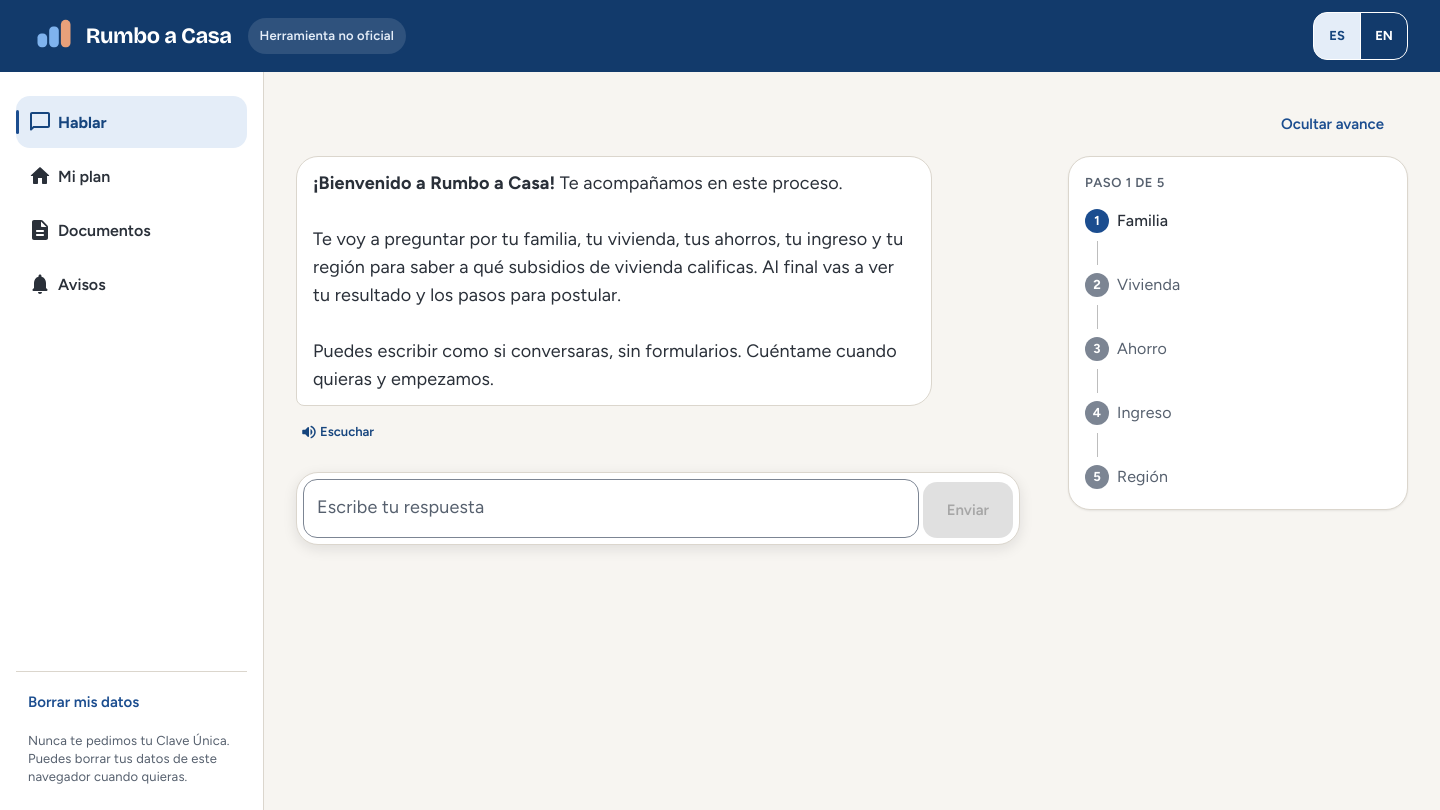
Scenario: PantallaEntrevista › las negritas del agente se ven como negritas, sin asteriscos, y la persona se muestra literal
The width and height of the screenshot is (1440, 810).
Type "**hola**" into the field labelled "Escribe tu respuesta" at (611, 508), box [303, 479, 919, 538]
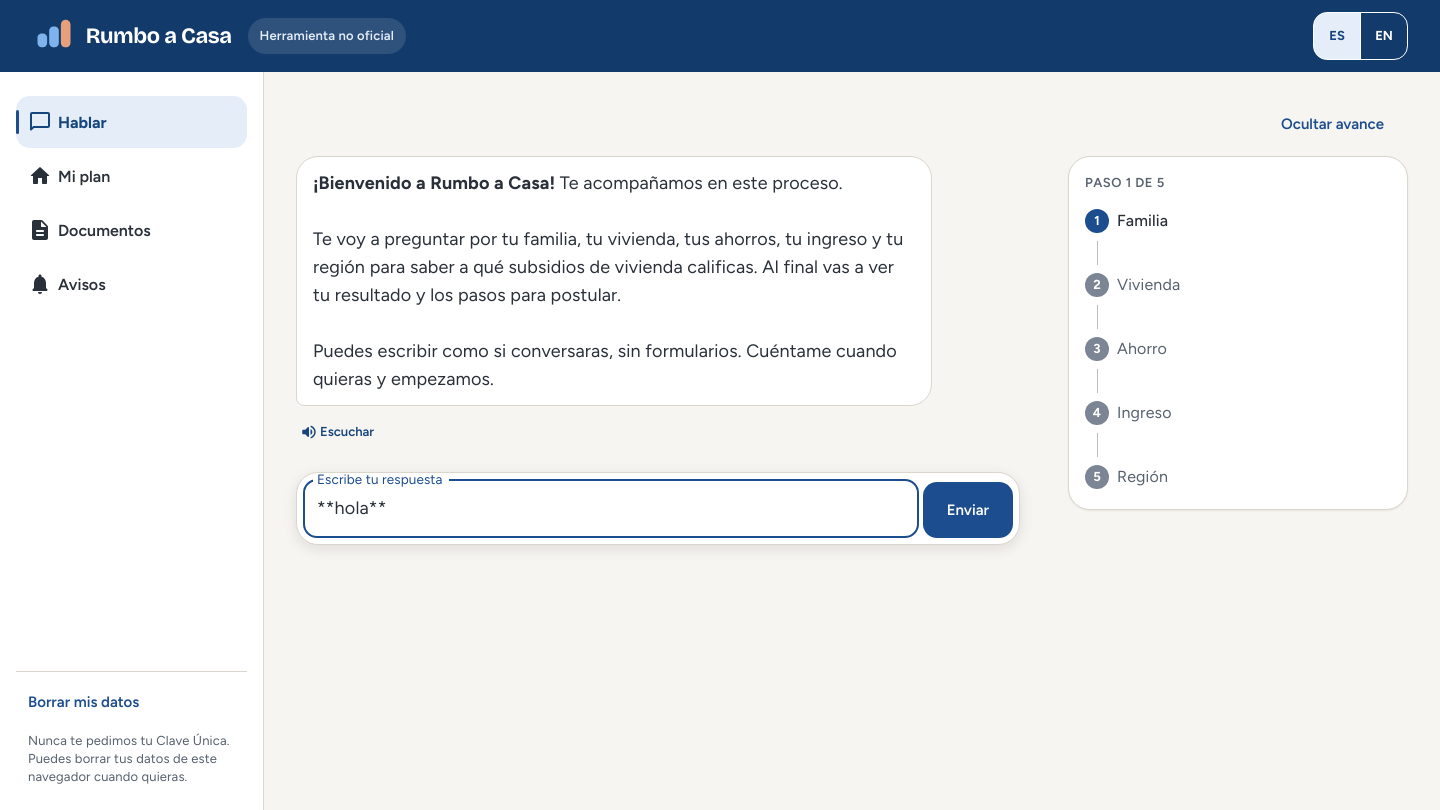
Click the button "Enviar" at (968, 510), box [923, 482, 1013, 538]
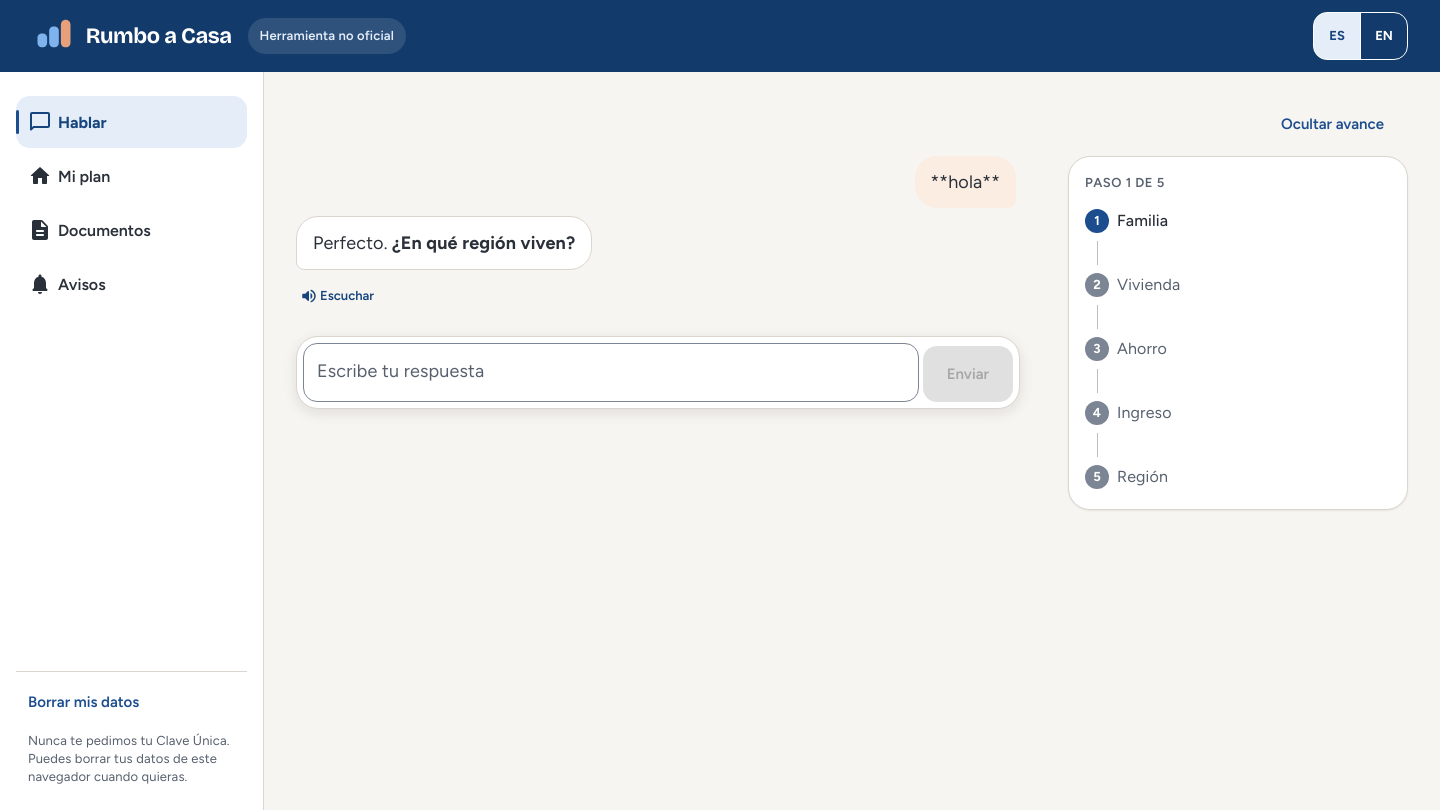
Now the text "**hola**" is shown, box [930, 168, 1000, 196]
